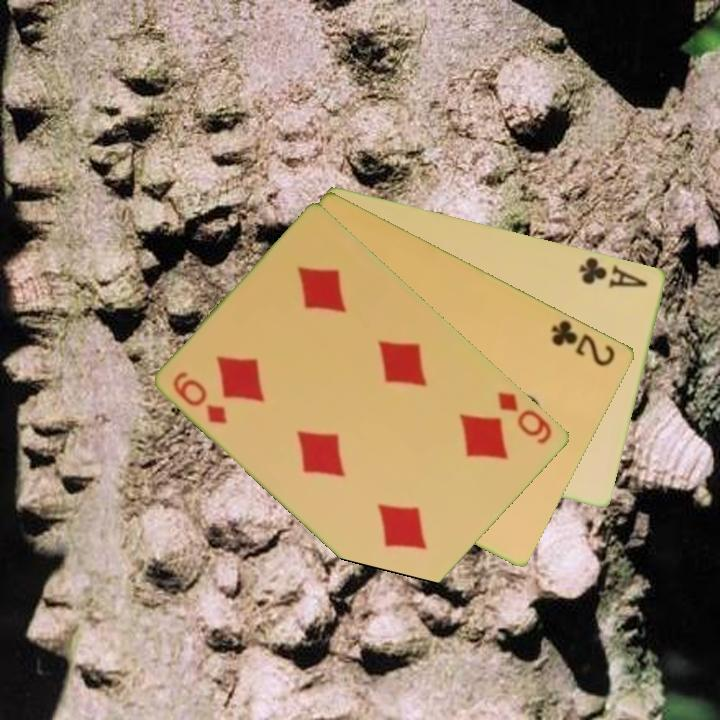2c: (548, 316, 619, 369)
6d: (494, 388, 556, 447), (170, 368, 231, 427)
Ac: (576, 253, 651, 291)
